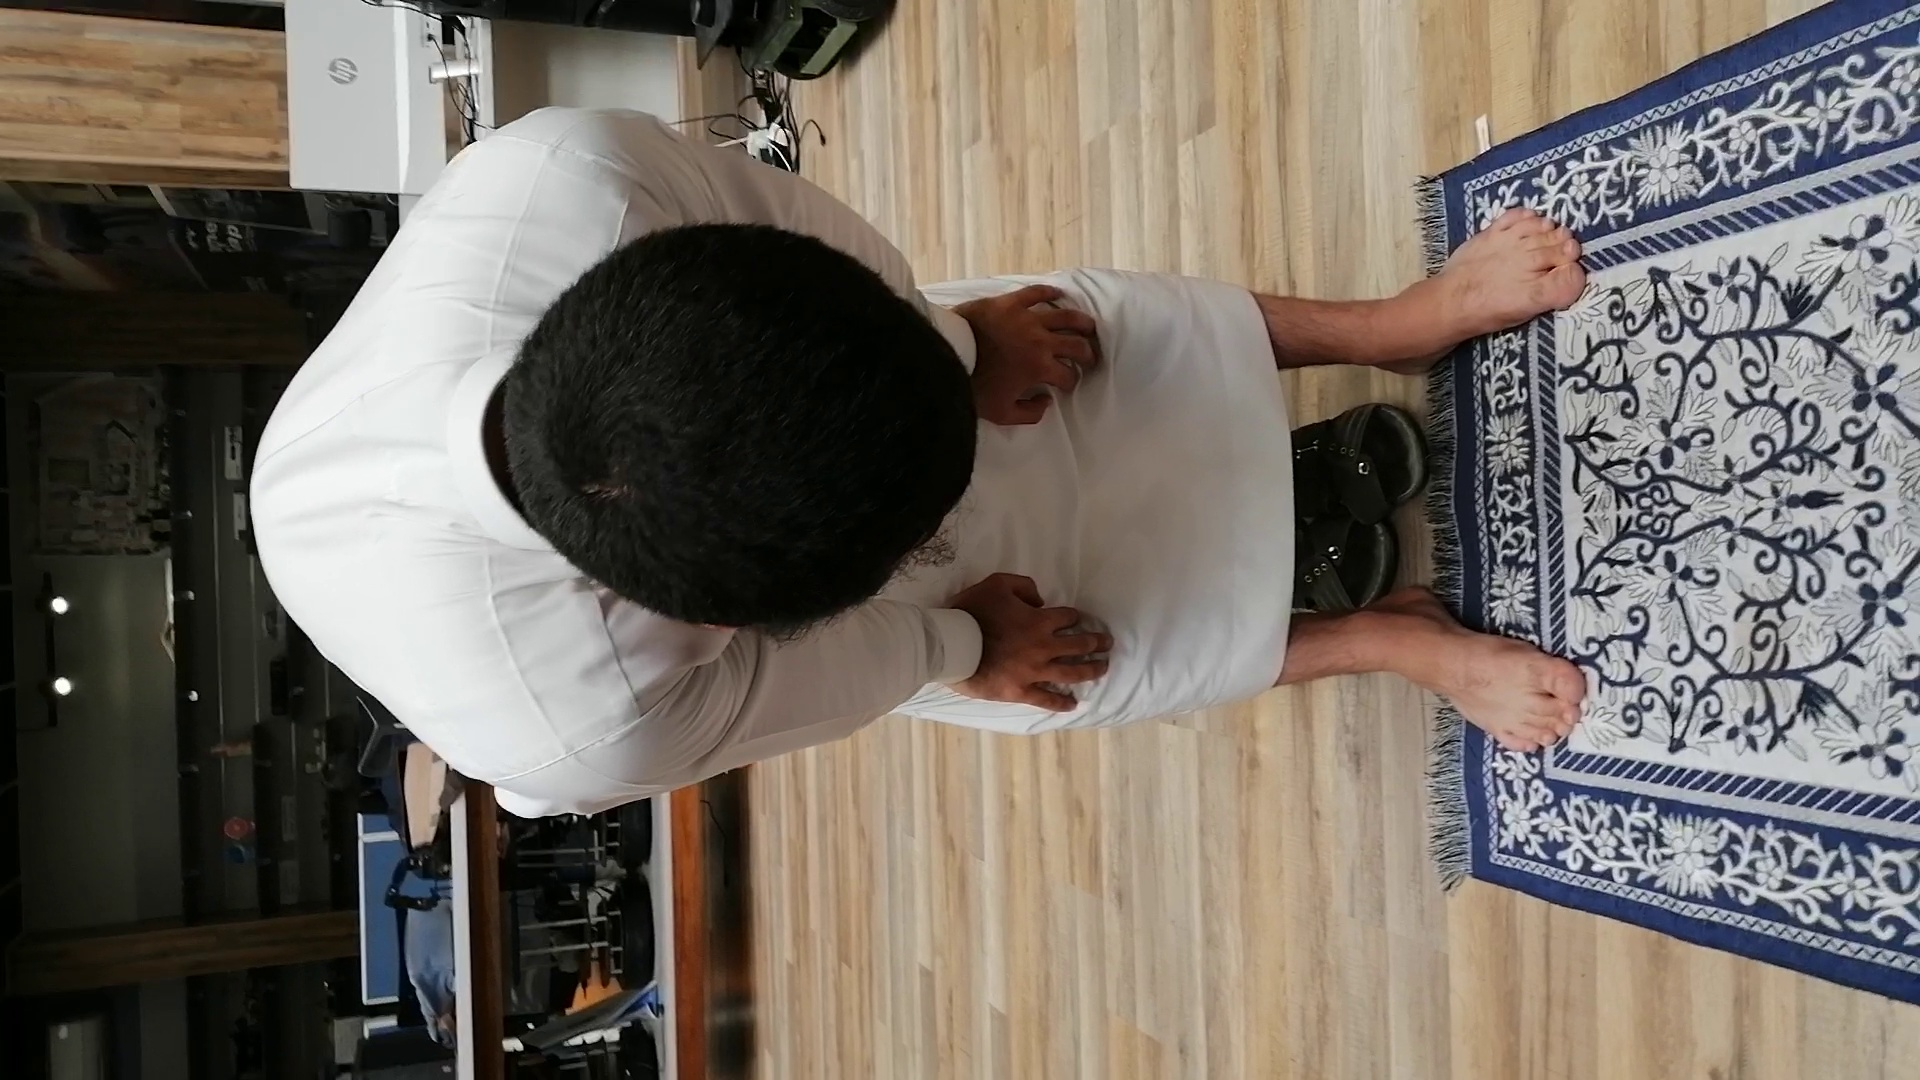ruku: (28, 49, 1738, 870)
